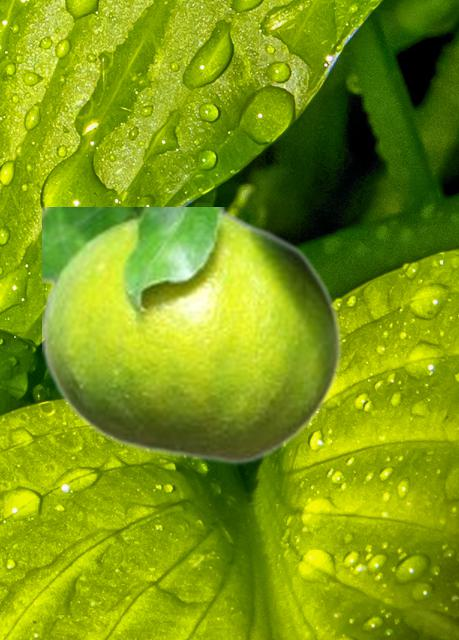dalandan: (42, 207, 342, 464)
